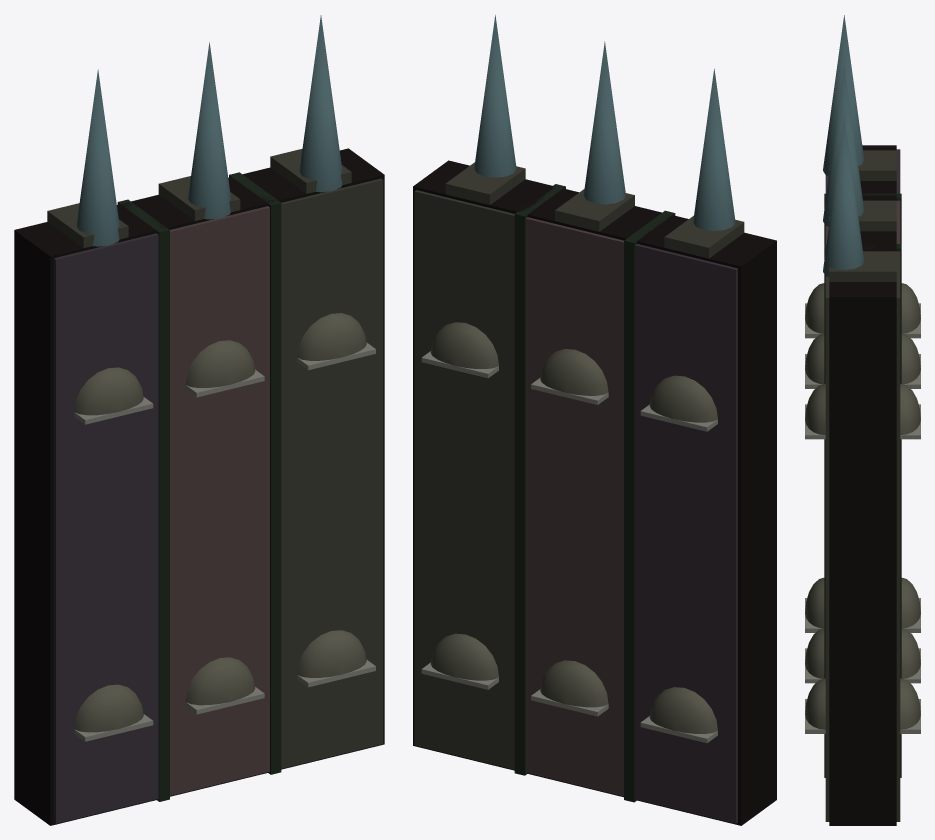
The model's file is door_spiked_x.glb.
3 views of the same model, side by side, from view 1: azimuth 30°, elevation 25°; view 2: azimuth 150°, elevation 25°; view 3: azimuth 270°, elevation 25° (orthographic). The views are drawn at different scales.
Parts seen in each view (by area): view 1: boards_3_13, boards_3_3, boards_5_14, body_0_14, studs_5_3, straps_0_7, spikes_7_11, sockets_3_3, stud_lips_9_3; view 2: boards_3_13, boards_3_3, boards_5_14, body_0_14, studs_5_3, straps_0_7, spikes_7_11, sockets_3_3, stud_lips_9_3; view 3: body_0_14, studs_5_3, spikes_7_11, boards_3_3, sockets_3_3, stud_lips_9_3, straps_0_7, boards_3_13, boards_5_14.
Part boxes in pixels (bbox=[...]): boards_3_13: bbox=[54, 233, 158, 823]; boards_3_3: bbox=[281, 178, 383, 768]; boards_5_14: bbox=[170, 206, 269, 795]; body_0_14: bbox=[14, 148, 384, 825]; studs_5_3: bbox=[74, 313, 366, 732]; straps_0_7: bbox=[117, 172, 281, 801]; spikes_7_11: bbox=[76, 15, 342, 246]; sockets_3_3: bbox=[47, 148, 351, 248]; stud_lips_9_3: bbox=[74, 342, 375, 741]; boards_3_13: bbox=[635, 244, 737, 823]; boards_3_3: bbox=[414, 190, 514, 769]; boards_5_14: bbox=[525, 217, 623, 796]; body_0_14: bbox=[413, 160, 776, 825]; studs_5_3: bbox=[430, 322, 717, 733]; straps_0_7: bbox=[514, 184, 675, 802]; spikes_7_11: bbox=[474, 15, 735, 231]; sockets_3_3: bbox=[445, 162, 744, 258]; stud_lips_9_3: bbox=[421, 351, 717, 743]; body_0_14: bbox=[829, 145, 896, 825]; studs_5_3: bbox=[805, 283, 920, 729]; spikes_7_11: bbox=[823, 15, 864, 277]; boards_3_3: bbox=[825, 251, 900, 821]; sockets_3_3: bbox=[829, 150, 896, 281]; stud_lips_9_3: bbox=[805, 303, 920, 733]; straps_0_7: bbox=[824, 193, 901, 777]; boards_3_13: bbox=[825, 149, 900, 193]; boards_5_14: bbox=[825, 200, 900, 243].
Bounding box in the file's own units: 0.9375 × 1.98 × 0.3027.
